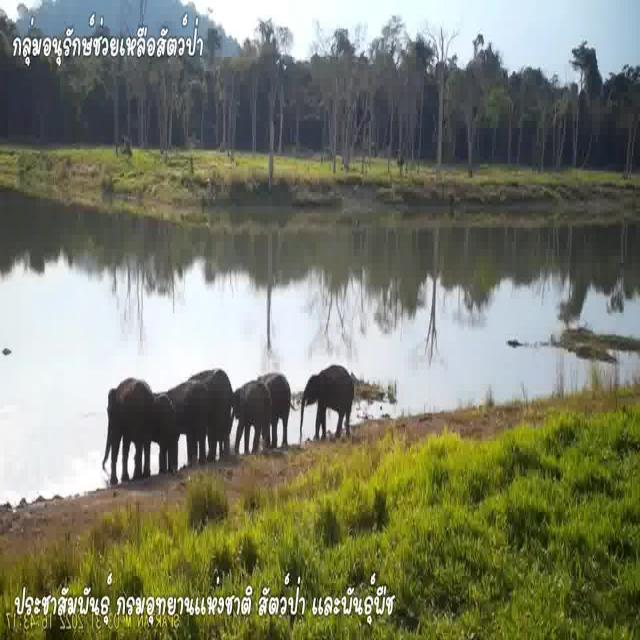Elephant: (102, 380, 149, 474), (192, 372, 234, 458), (306, 364, 354, 432), (233, 384, 273, 454), (254, 371, 291, 444)
